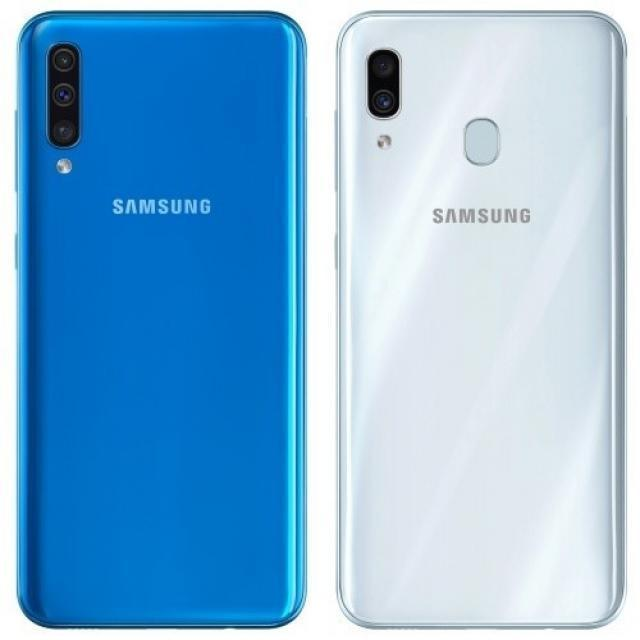phone: (332, 6, 631, 631), (16, 9, 311, 635)
